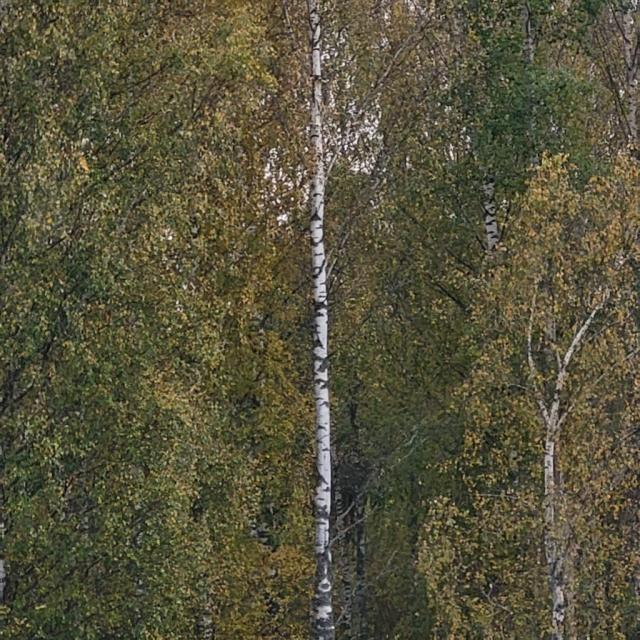Birch: (528, 296, 602, 640), (310, 5, 331, 632)
